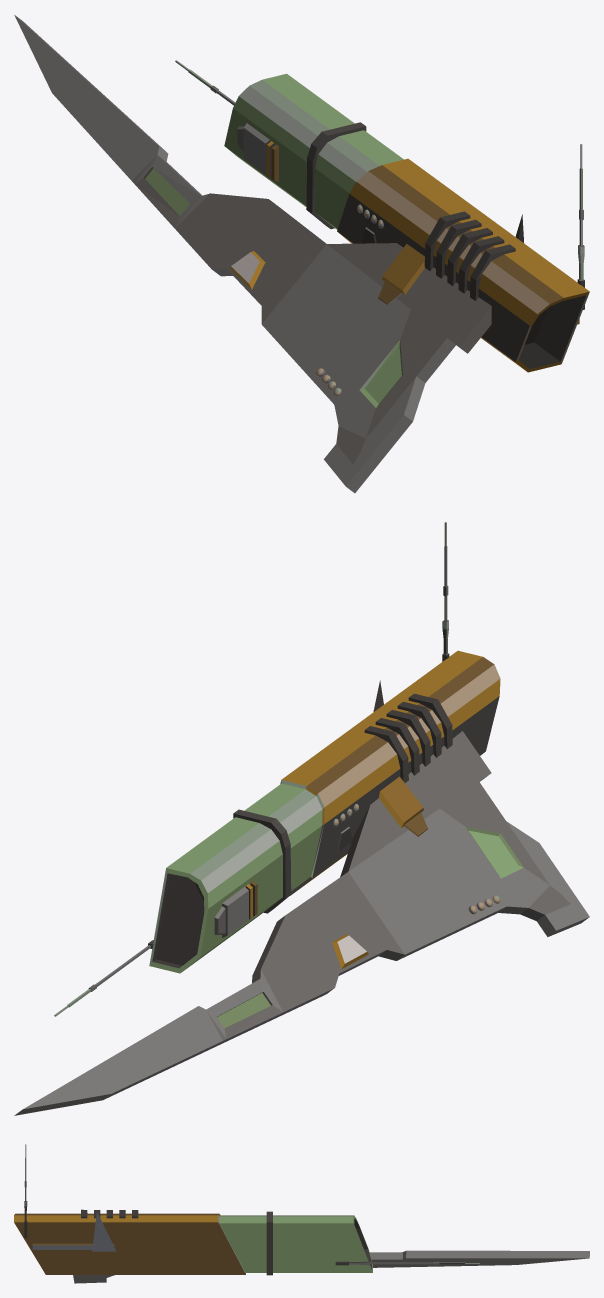
The model's file is nacelle_port.glb.
The picture shows the model from 3 angles, top to bottom: view 1: azimuth 30°, elevation 25°; view 2: azimuth 150°, elevation 25°; view 3: azimuth 270°, elevation 25°; orthographic projection. The views are drawn at different scales.
Size of the model in its own units: 0.8184 by 1.34 by 3.7.
